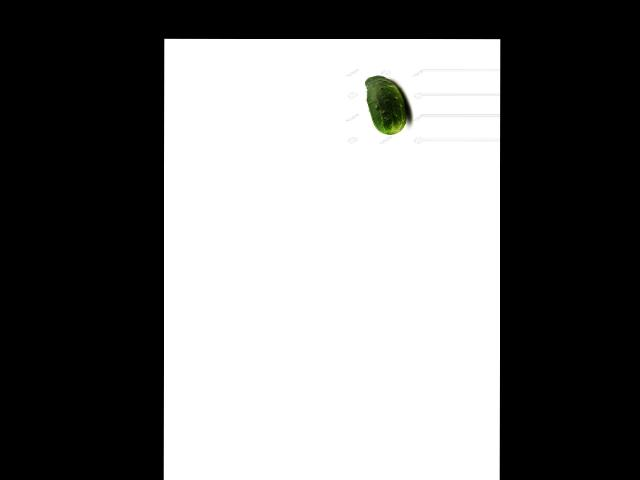cucumber: (365, 75, 407, 135)
